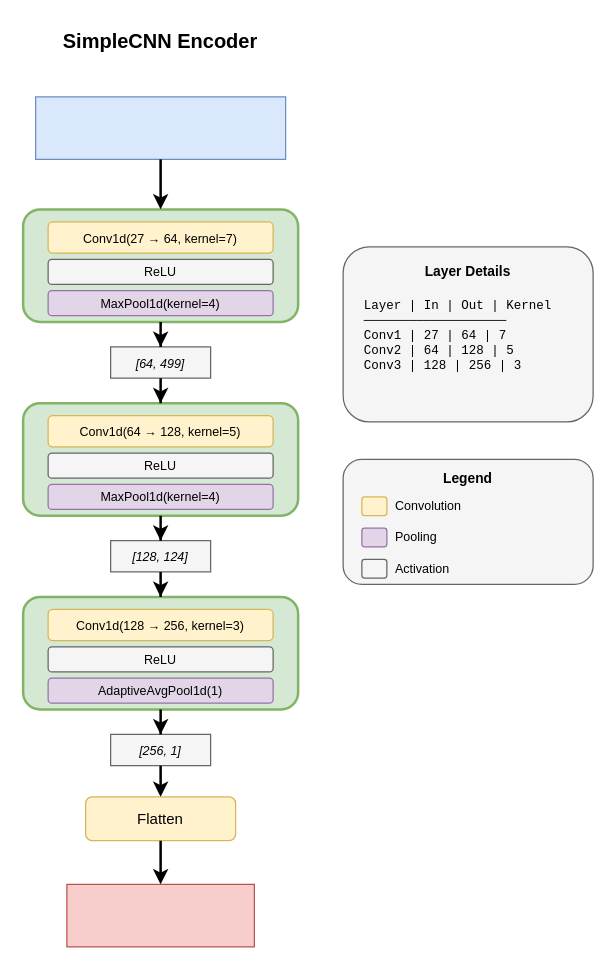
The diagram is 615 pixels wide and 969 high, and some of its shapes have lost their labels. Here are the shapes that lost their labels. From the top down, the centre of each, then its label:
the point at 160,127: Input: [batch, 27, 2000] (channels, samples per window)
the point at 160,915: Output: [256-dim] (per window)
